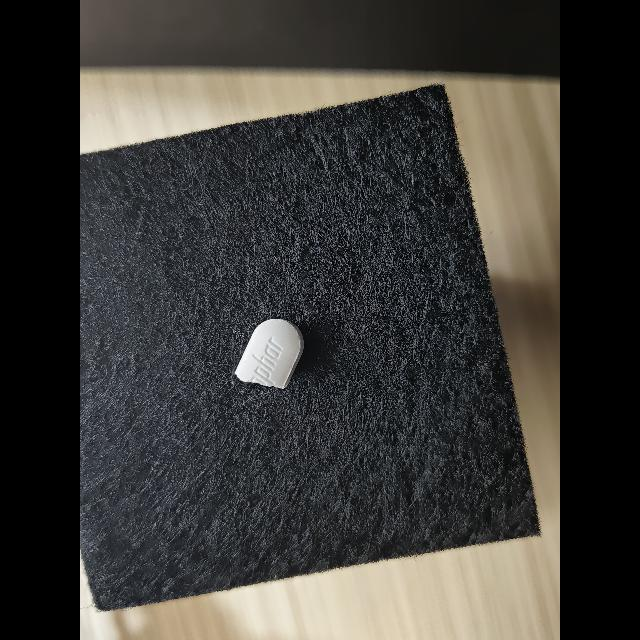Chipped Pill: (235, 318, 304, 389)
